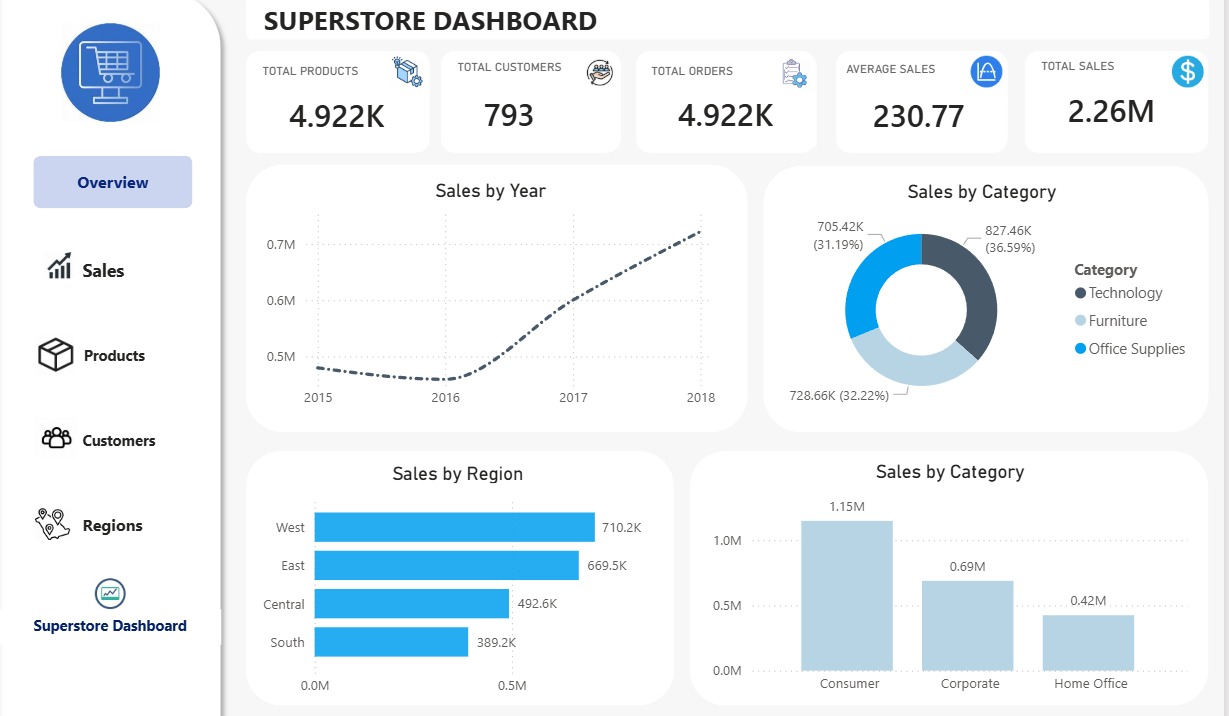

The page's visual inventory and layout, read from the dashboard file:
{"tool":"powerbi","page":{"name":"Page 1","canvas":[1120,680],"ordinal":0},"visuals":[{"type":"shape","box":[230.6,13.9,876.4,38.9],"z":500},{"type":"shape","box":[231.1,62.4,167.5,92.9],"z":1000},{"type":"shape","box":[408.4,62.4,163.9,92.9],"z":2000},{"type":"shape","box":[585.7,62.4,163.9,92.9],"z":3000},{"type":"shape","box":[766.7,62.4,156.5,92.9],"z":4000},{"type":"shape","box":[939.1,62.4,167.5,92.9],"z":5000},{"type":"shape","box":[230.8,165.4,456.4,243.6],"z":6000},{"type":"shape","box":[230.6,425.9,389.4,231.8],"z":7000},{"type":"shape","box":[634.1,425.9,471.8,231.8],"z":8000},{"type":"shape","box":[701.3,166.7,405.1,242.3],"z":9000},{"type":"shape","box":[0,0,216.7,720.8],"z":10000},{"type":"cardVisual","title":"TOTAL SALES","fields":{"Data":["Sum(train.Sales)"]},"box":[948.9,69.3,138.6,77.3],"z":11000},{"type":"cardVisual","title":"AVERAGE SALES","fields":{"Data":["Avg(train.Sales)"]},"box":[771.6,72.7,146.6,80.7],"z":12000},{"type":"cardVisual","title":"TOTAL ORDERS","fields":{"Data":["Count(train.Order ID)"]},"box":[594.4,73.6,155.6,76.4],"z":13000},{"type":"cardVisual","title":"TOTAL CUSTOMERS","fields":{"Data":["Count(train.Customer ID)"]},"box":[418.2,70.5,136.4,83],"z":14000},{"type":"cardVisual","title":"TOTAL PRODUCTS","fields":{"Data":["Count(train.Order ID)"]},"box":[240.9,73.9,146.6,78.4],"z":15000},{"type":"lineChart","title":"Sales by Year","fields":{"Category":["train.Order Date.Variation.Date Hierarchy.Year","train.Order Date.Variation.Date Hierarchy.Quarter","train.Order Date.Variation.Date Hierarchy.Month","train.Order Date.Variation.Date Hierarchy.Day"],"Y":["Sum(train.Sales)"]},"box":[244.9,179.5,417.9,216.7],"z":16000},{"type":"donutChart","title":"Sales by Category","fields":{"Category":["train.Category"],"Y":["Sum(train.Sales)"]},"box":[701.1,180.5,397.7,216.1],"z":17000},{"type":"clusteredBarChart","title":"Sales by Region","fields":{"Category":["train.Region"],"Y":["Sum(train.Sales)"]},"box":[237.6,436.5,371.8,221.2],"z":18000},{"type":"clusteredColumnChart","title":"Sales by Category","fields":{"Category":["train.Segment"],"Y":["Sum(train.Sales)"]},"box":[649.5,434.7,442.1,221.1],"z":19000},{"type":"image","box":[47.8,37.7,120.3,89.9],"z":20000},{"type":"image","box":[884,67,40,29],"z":21000},{"type":"image","box":[709,69,41,27],"z":22000},{"type":"image","box":[1067,67,40,29],"z":23000},{"type":"image","box":[518,70,68,24],"z":24000},{"type":"image","box":[345,67,64,29],"z":25000},{"type":"textbox","box":[59.1,172.7,97.7,39.8],"z":26000},{"type":"textbox","box":[76.8,244.9,71,36.2],"z":27000},{"type":"textbox","box":[78.3,325.5,75.8,29.2],"z":28000},{"type":"textbox","box":[77.6,402.5,85.7,29.2],"z":29000},{"type":"textbox","box":[77,478.3,86.3,34.2],"z":30000},{"type":"shape","box":[37.7,158,144.9,47.8],"z":31000},{"type":"image","box":[37.5,245.5,46.6,23.9],"z":32000},{"type":"image","box":[36.6,321.7,43.5,34.8],"z":33000},{"type":"image","box":[28.6,395,60.9,37.9],"z":34000},{"type":"image","box":[31.7,478.3,46.6,28.6],"z":35000},{"type":"textbox","box":[7.4,570.6,201.2,31.9],"z":36000},{"type":"image","box":[81,542.3,54,28.2],"z":37000},{"type":"textbox","box":[241.7,13.9,530.6,47.2],"z":38000}]}

Visuals, with their boxes on the page's 1120x680 design canvas (x1, y1, x2, y2). These are canvas units, not pixel positions in the 1229x716 screenshot, which may show the page scaled, cropped or inside an application window:
shape: x1=231, y1=14, x2=1107, y2=53
shape: x1=231, y1=62, x2=399, y2=155
shape: x1=408, y1=62, x2=572, y2=155
shape: x1=586, y1=62, x2=750, y2=155
shape: x1=767, y1=62, x2=923, y2=155
shape: x1=939, y1=62, x2=1107, y2=155
shape: x1=231, y1=165, x2=687, y2=409
shape: x1=231, y1=426, x2=620, y2=658
shape: x1=634, y1=426, x2=1106, y2=658
shape: x1=701, y1=167, x2=1106, y2=409
shape: x1=0, y1=0, x2=217, y2=721
"TOTAL SALES" cardVisual: x1=949, y1=69, x2=1088, y2=147
"AVERAGE SALES" cardVisual: x1=772, y1=73, x2=918, y2=153
"TOTAL ORDERS" cardVisual: x1=594, y1=74, x2=750, y2=150
"TOTAL CUSTOMERS" cardVisual: x1=418, y1=70, x2=555, y2=154
"TOTAL PRODUCTS" cardVisual: x1=241, y1=74, x2=388, y2=152
"Sales by Year" lineChart: x1=245, y1=180, x2=663, y2=396
"Sales by Category" donutChart: x1=701, y1=180, x2=1099, y2=397
"Sales by Region" clusteredBarChart: x1=238, y1=436, x2=609, y2=658
"Sales by Category" clusteredColumnChart: x1=650, y1=435, x2=1092, y2=656
image: x1=48, y1=38, x2=168, y2=128
image: x1=884, y1=67, x2=924, y2=96
image: x1=709, y1=69, x2=750, y2=96
image: x1=1067, y1=67, x2=1107, y2=96
image: x1=518, y1=70, x2=586, y2=94
image: x1=345, y1=67, x2=409, y2=96
textbox: x1=59, y1=173, x2=157, y2=212
textbox: x1=77, y1=245, x2=148, y2=281
textbox: x1=78, y1=326, x2=154, y2=355
textbox: x1=78, y1=402, x2=163, y2=432
textbox: x1=77, y1=478, x2=163, y2=512
shape: x1=38, y1=158, x2=183, y2=206
image: x1=38, y1=246, x2=84, y2=269
image: x1=37, y1=322, x2=80, y2=356
image: x1=29, y1=395, x2=90, y2=433
image: x1=32, y1=478, x2=78, y2=507
textbox: x1=7, y1=571, x2=209, y2=602
image: x1=81, y1=542, x2=135, y2=570
textbox: x1=242, y1=14, x2=772, y2=61
